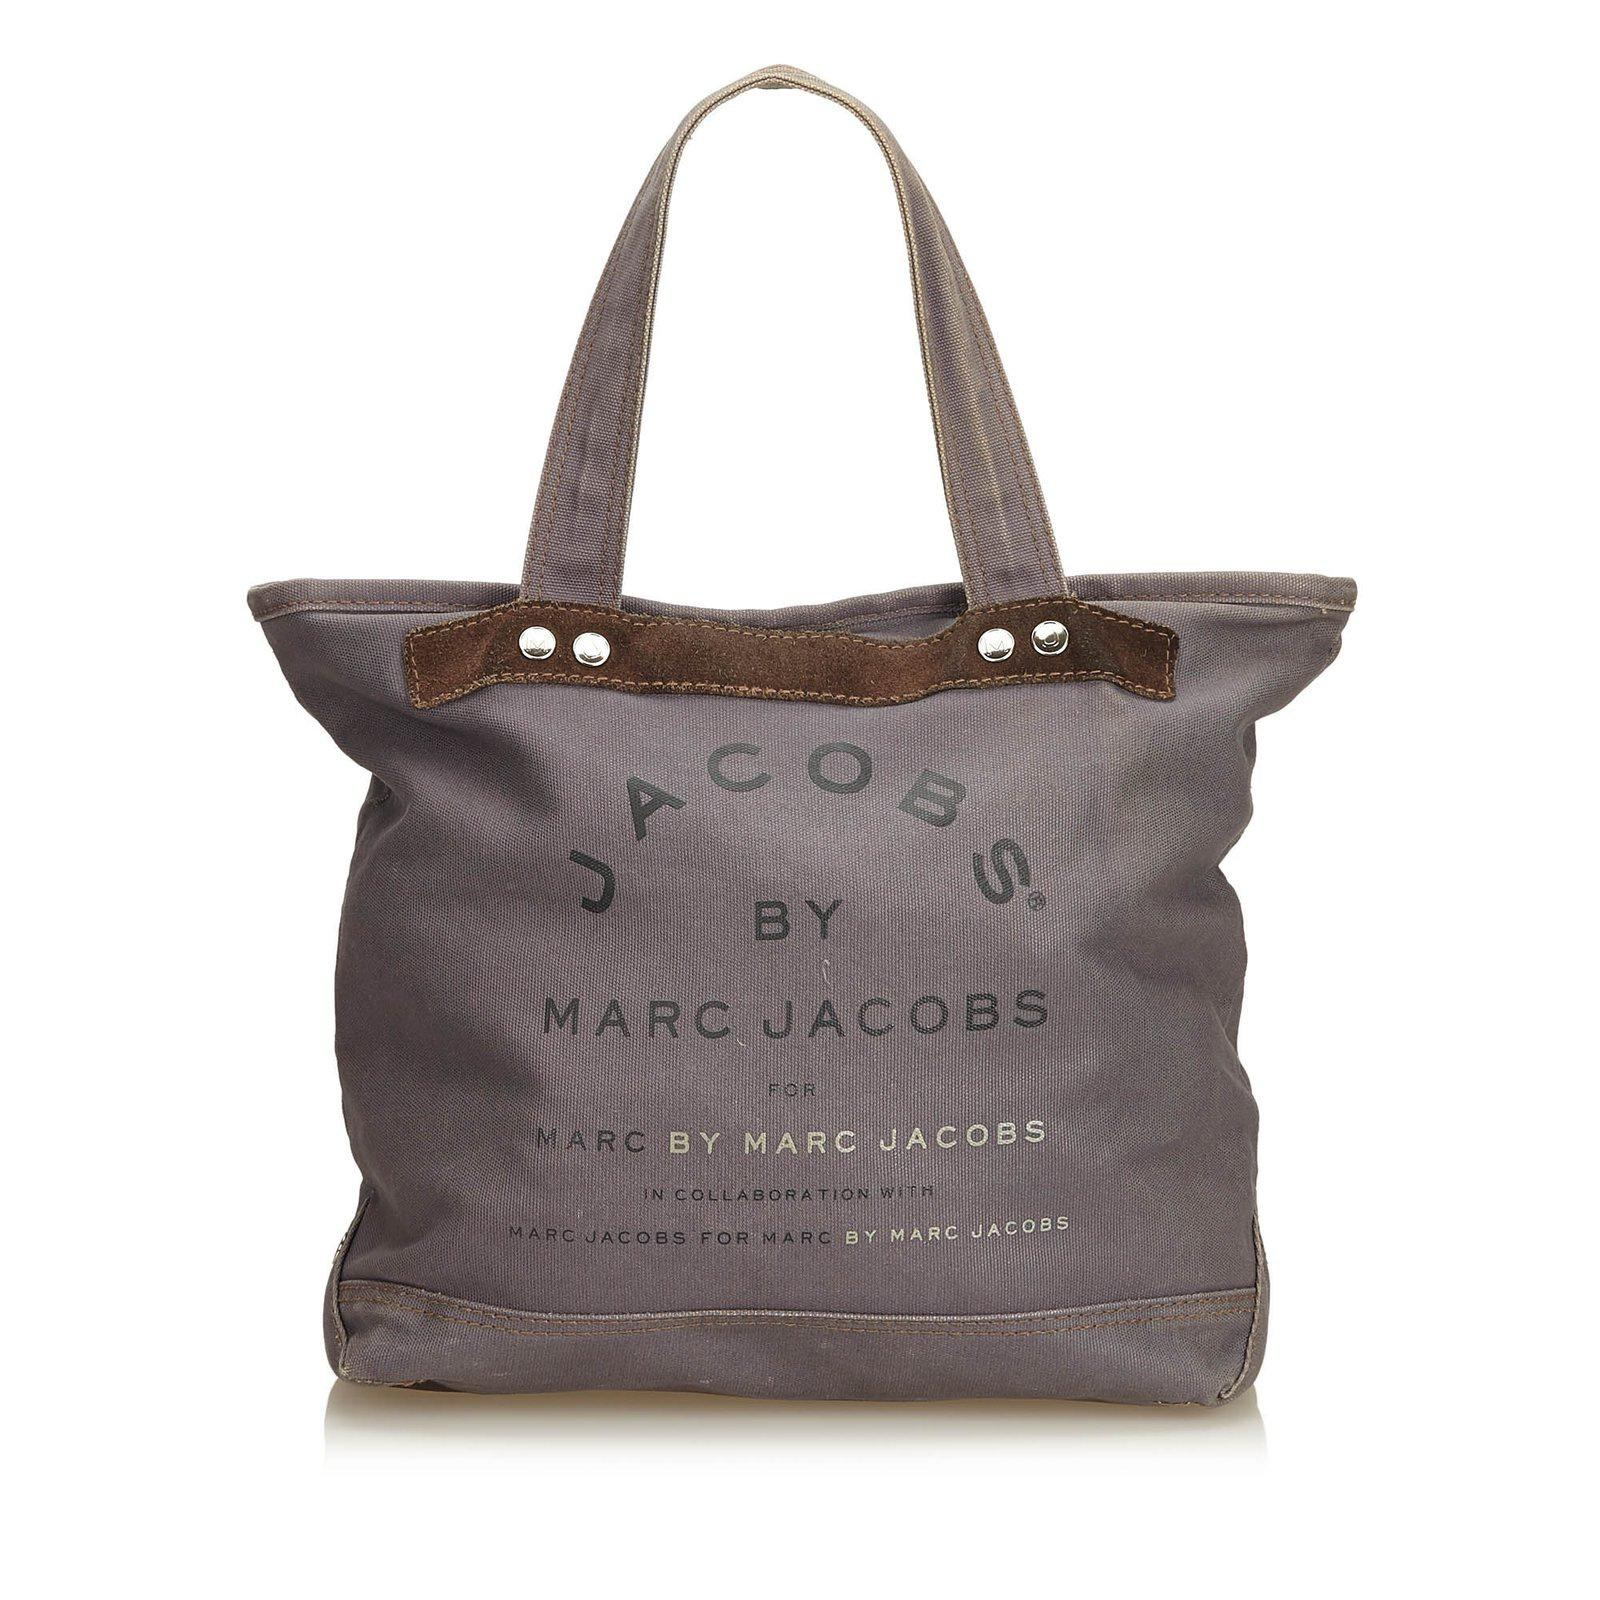MARC-JACOBS: (541, 990, 1048, 1039), (744, 1121, 1046, 1153), (508, 1223, 686, 1248), (891, 1216, 1068, 1241)
